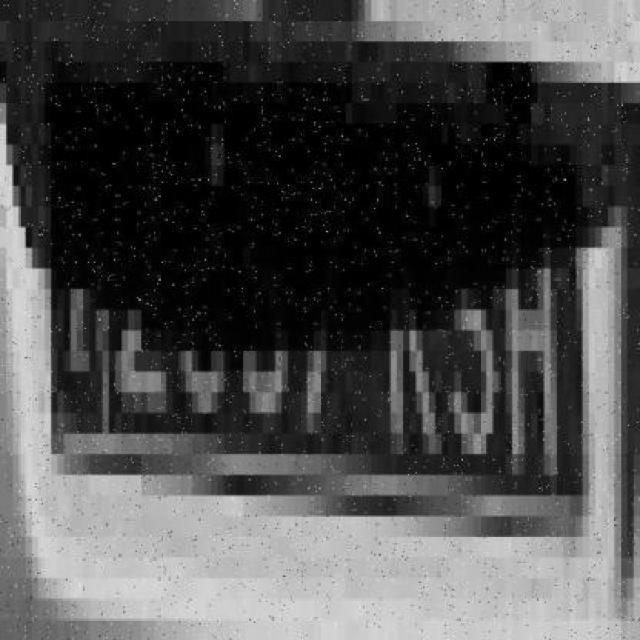licenseplate: (46, 56, 589, 519)
